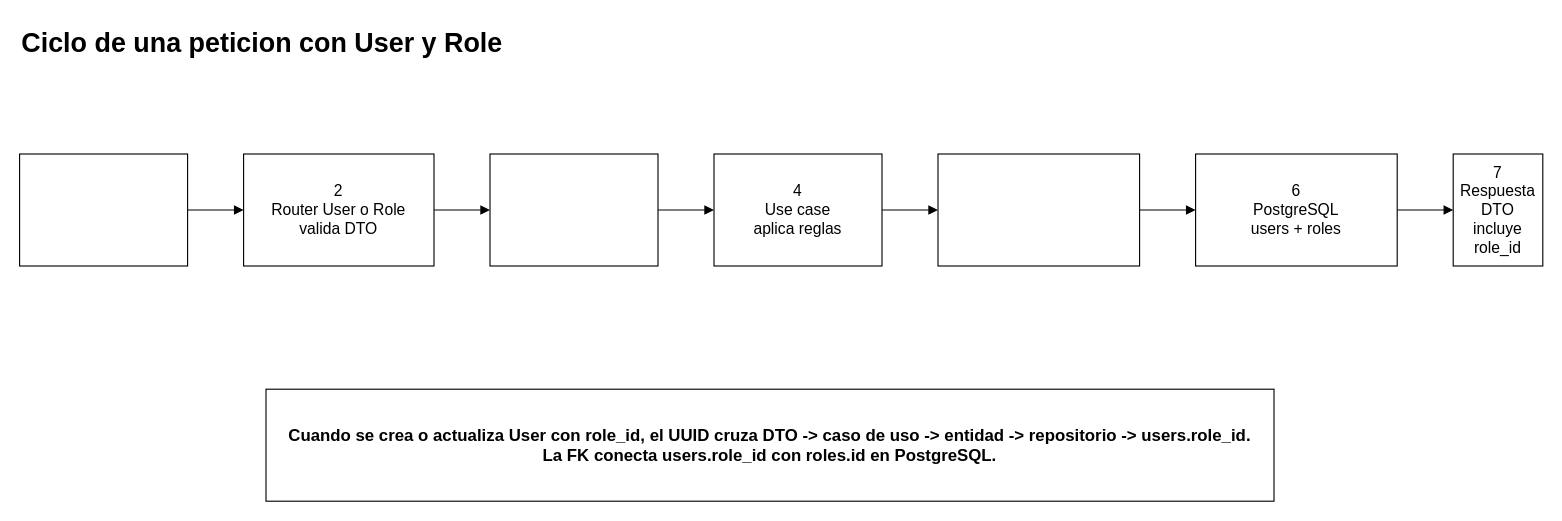
Image size: 1562x521. Some labels were removed from this diagram. The centre of each missing label's shape, as x and y in pixels:
"1 Cliente envia JSON" goes at [103,209].
"3 Depends inyecta UoW" goes at [573,209].
"5 Repo User / Role consulta o guarda" goes at [1038,209].
